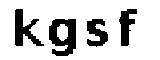f: (118, 3, 140, 51)
g: (45, 17, 81, 60)
k: (12, 6, 45, 48)
s: (84, 17, 110, 48)
